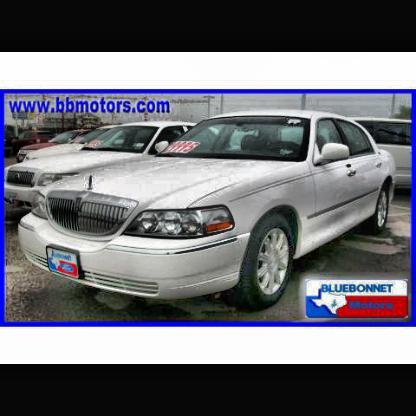Lincoln Town Car Sedan 2011: (19, 108, 398, 316)
